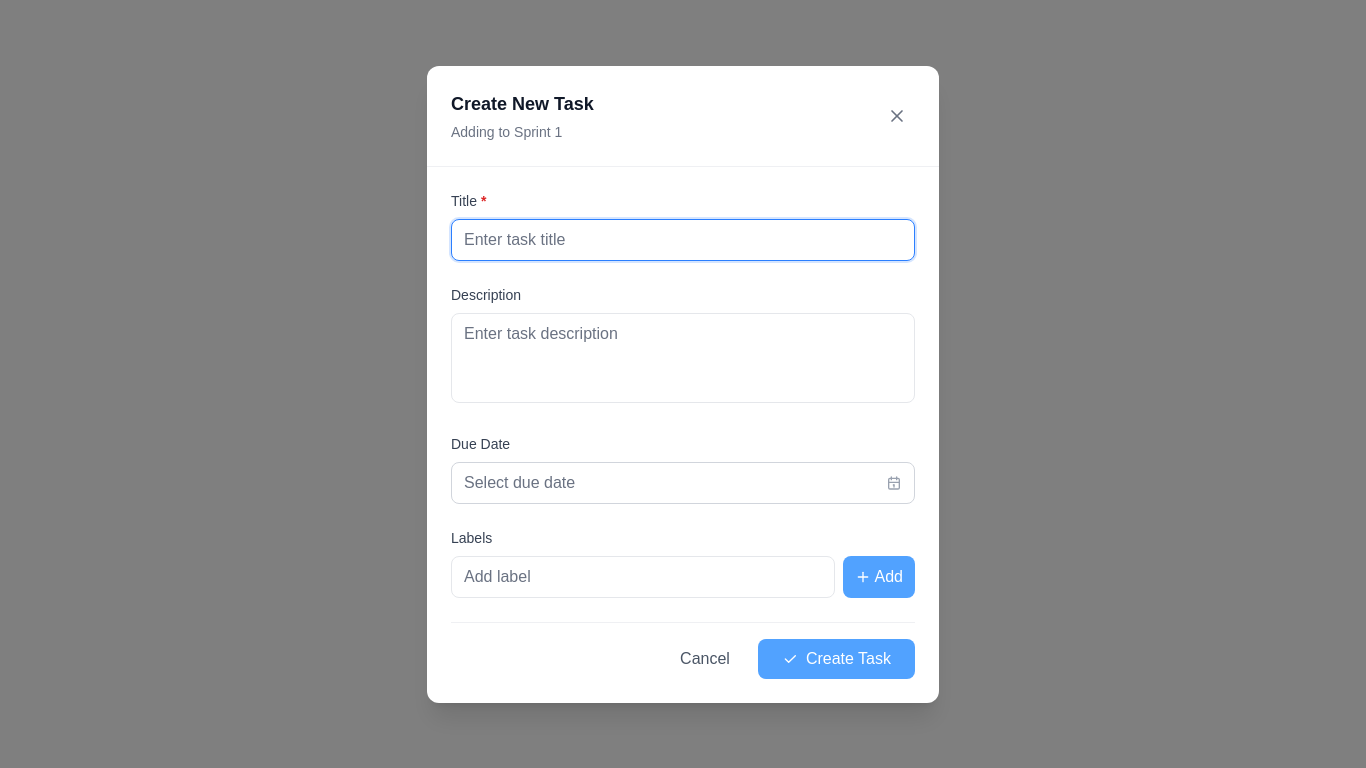
it: TaskCreateModal › adds and removes labels
The image size is (1366, 768).
Type "bug" into the field with placeholder "Add label".
click(643, 576); type("bug")  # box [451,556,834,598]
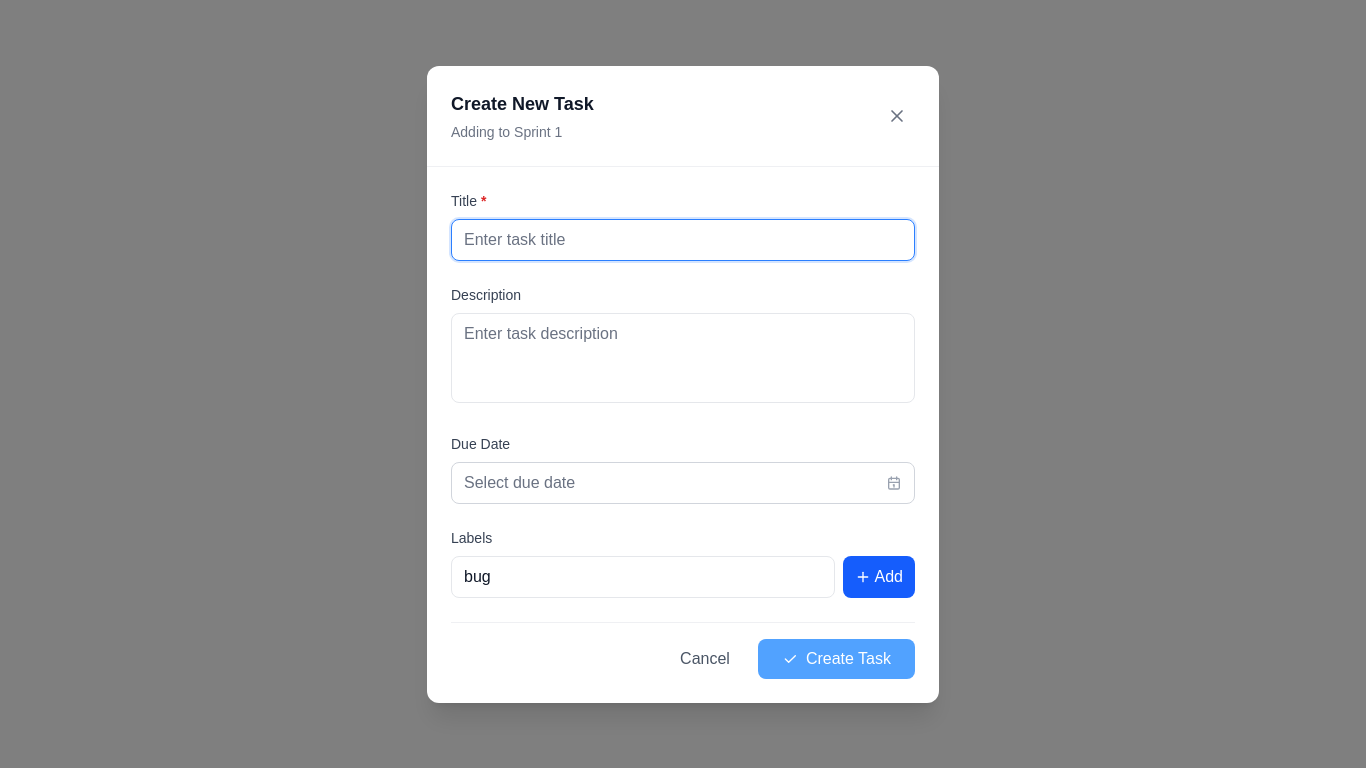
Click the button "Add".
click(879, 576)  # box [842,556,915,598]
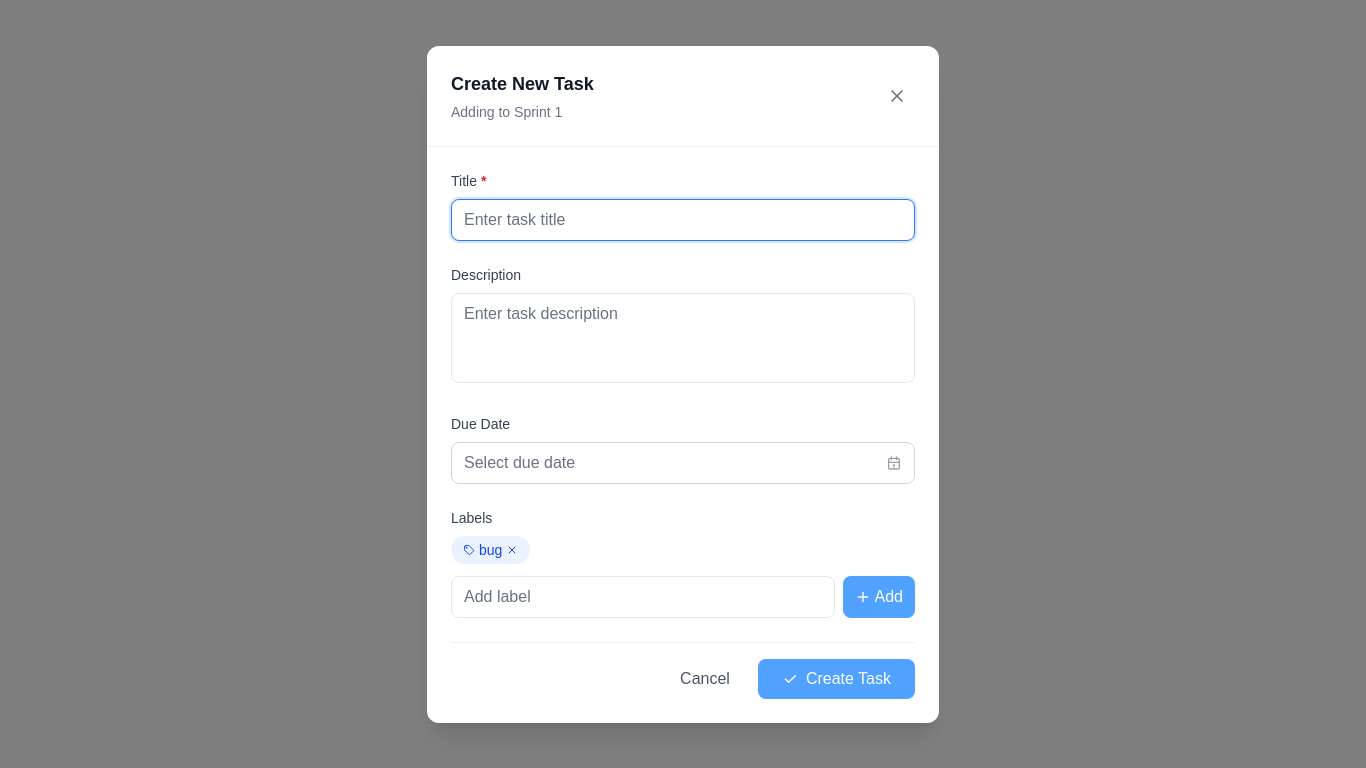
expect the text "bug" is shown: met, box [479,540,502,560]
Remove label via the X button next to it
Click the button without text next to "bug".
click(512, 550)  # box [506,544,518,556]
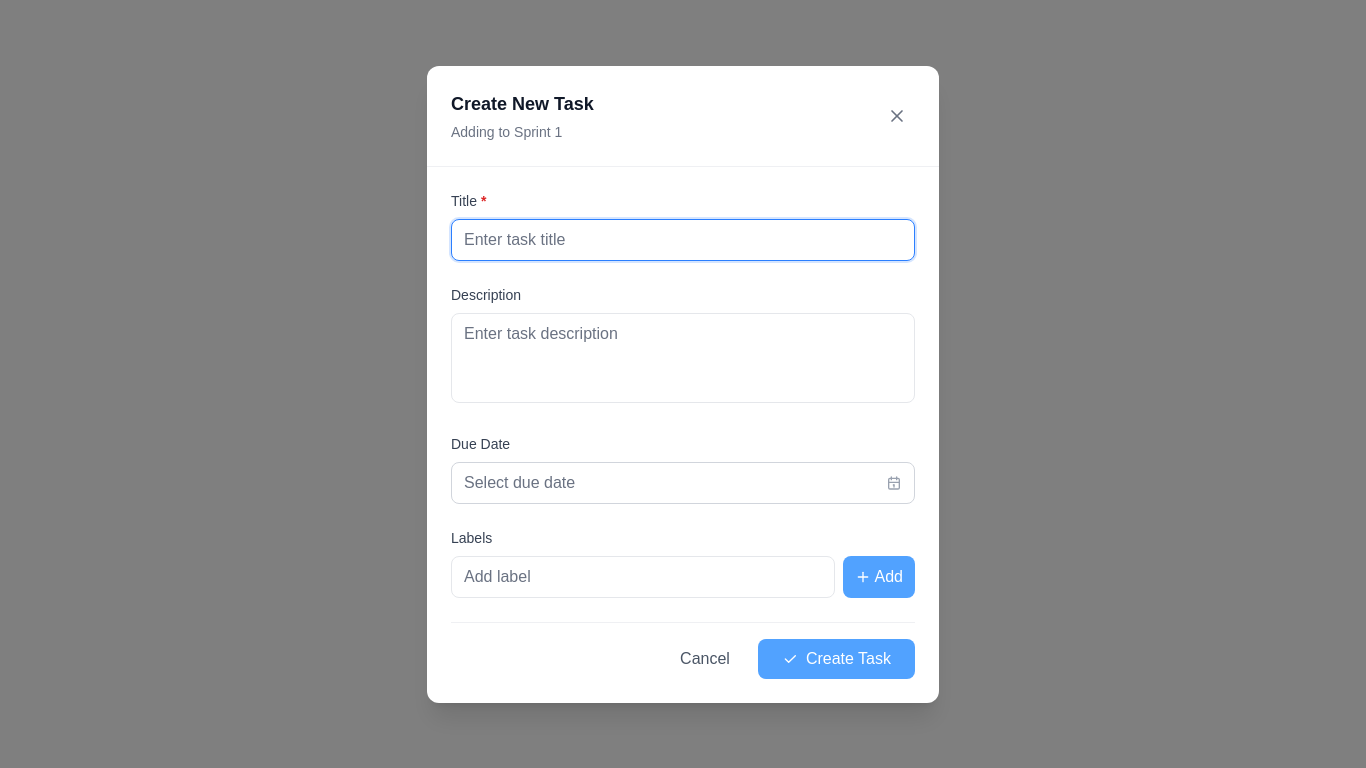
expect the text "bug" is gone: met
